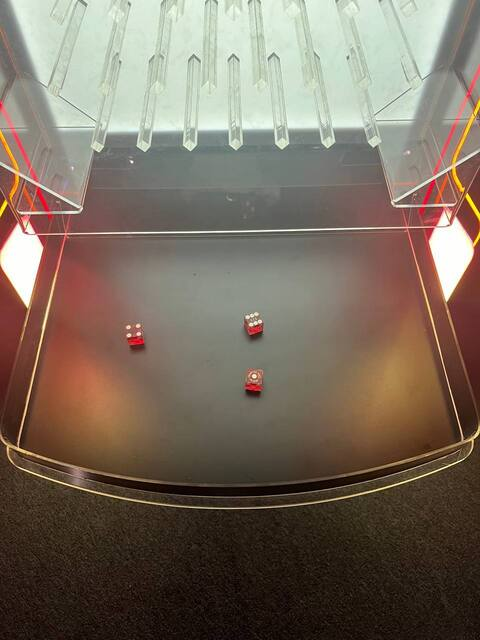four: (122, 320, 146, 340)
one: (242, 366, 268, 388)
six: (240, 309, 268, 331)
